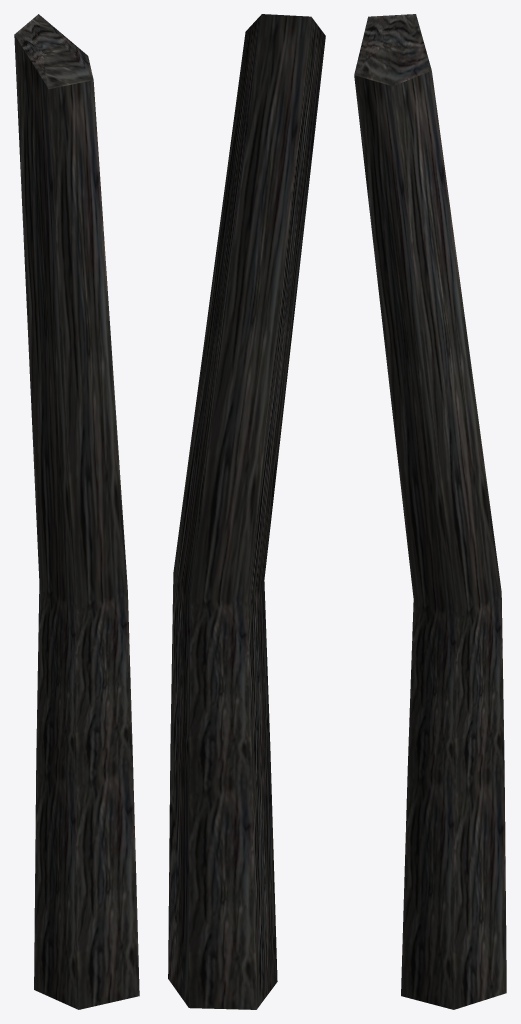
File: burnt_tree.fbx
3 renders of one model, left to right at view 1: azimuth 30°, elevation 25°; view 2: azimuth 150°, elevation 25°; view 3: azimuth 330°, elevation 25°, orthographic. The views are drawn at different scales.
Visible parts, largest first — view 1: lod_high; view 2: lod_high; view 3: lod_high.
Boxes of the visible parts, x1,y1,x2,y2 form: lod_high: [14, 14, 139, 1009]; lod_high: [168, 14, 325, 1009]; lod_high: [354, 14, 506, 1009].
Size of the model in its own units: 226 by 1626 by 183.
1 material, 1 textured.
